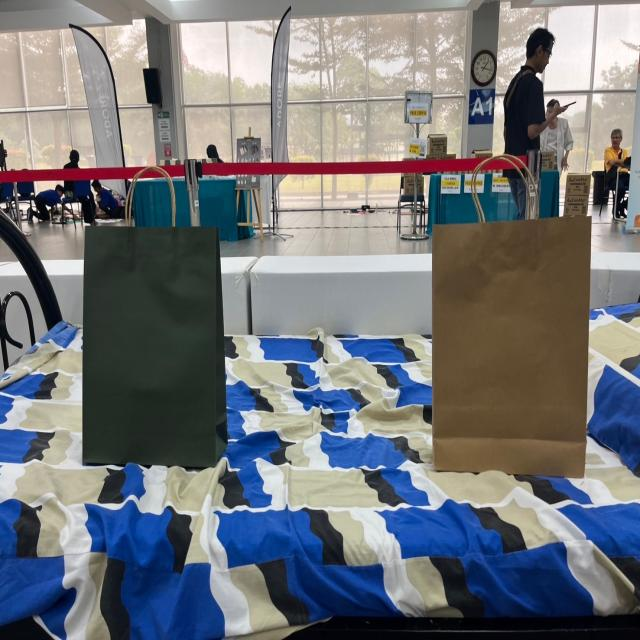bag: (427, 159, 582, 475), (90, 153, 215, 462)
